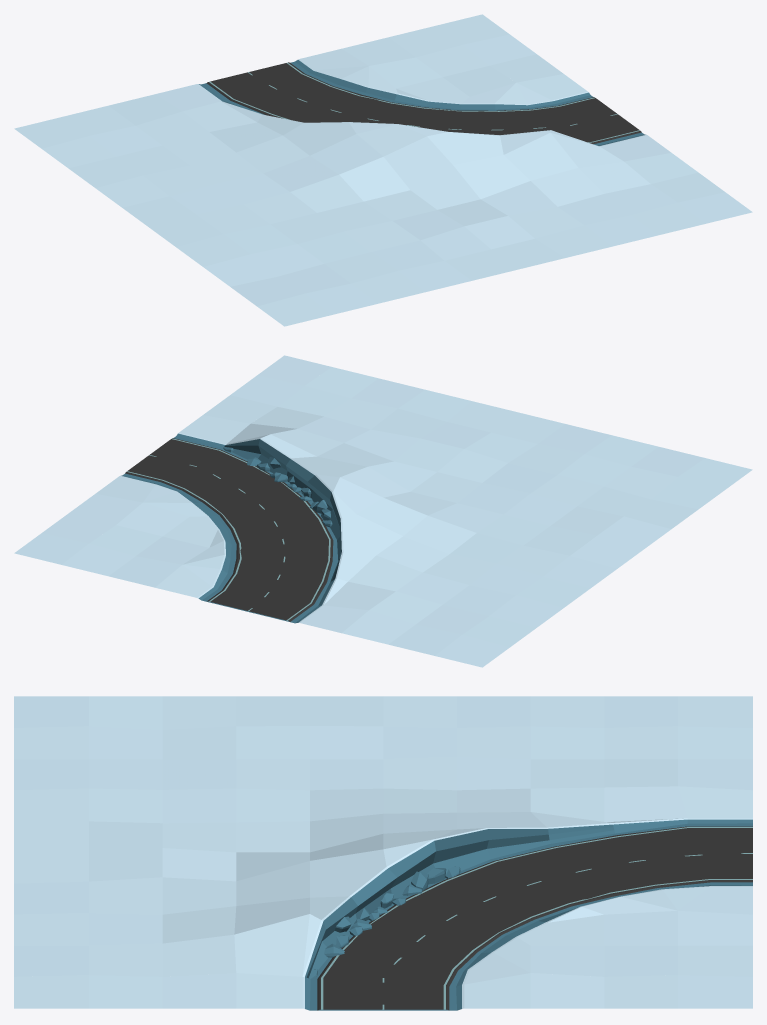
Rendered from model_road_snow_cornor_2.fbx.
The picture shows the model from 3 angles, top to bottom: view 1: azimuth 30°, elevation 25°; view 2: azimuth 150°, elevation 25°; view 3: azimuth 270°, elevation 25°; orthographic projection. The views are drawn at different scales.
Visible parts, largest first — view 1: model_road_snow_cornor_2; view 2: model_road_snow_cornor_2; view 3: model_road_snow_cornor_2.
Boxes of the visible parts, x1,y1,x2,y2 form: model_road_snow_cornor_2: [14, 14, 752, 326]; model_road_snow_cornor_2: [14, 355, 752, 667]; model_road_snow_cornor_2: [14, 696, 752, 1010].
Bounding box in the file's own units: 6162 × 421 × 6162.
Materials: 1 (1 with a texture image).
